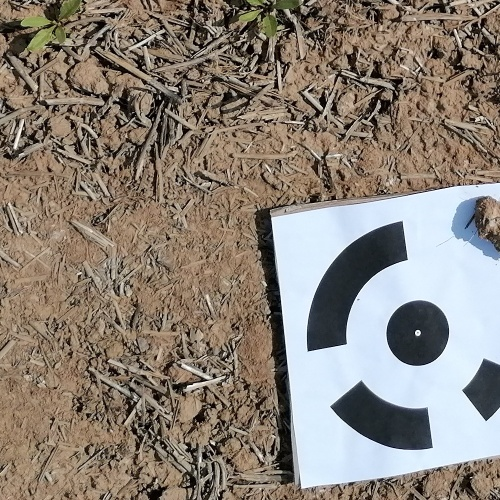beet: (20, 0, 83, 52), (238, 0, 301, 37)
